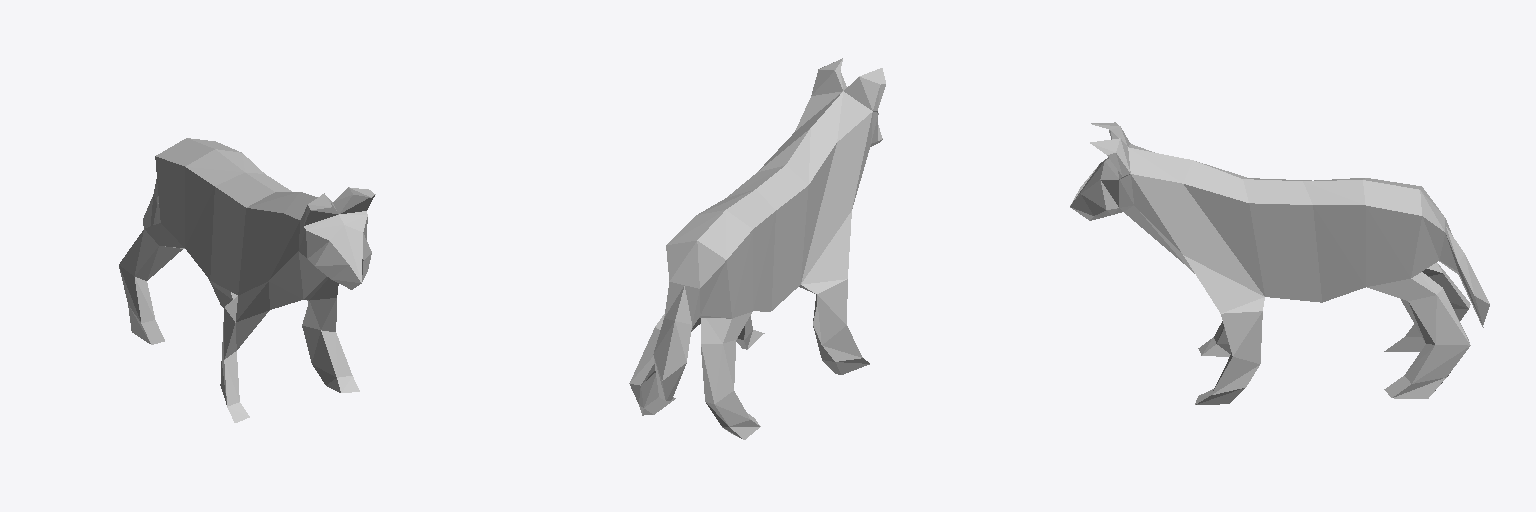
Rendered from wolf.obj.
3 views of the same model, side by side, from view 1: azimuth 30°, elevation 25°; view 2: azimuth 150°, elevation 25°; view 3: azimuth 270°, elevation 25° (orthographic).
Visible parts, largest first — view 1: Wolf; view 2: Wolf; view 3: Wolf.
Part boxes in pixels (x1,y1,x2,y2): Wolf: (119,138,375,422); Wolf: (629,58,885,439); Wolf: (1070,122,1489,404).
Size of the model in its own units: 1.68 by 3.21 by 4.94.